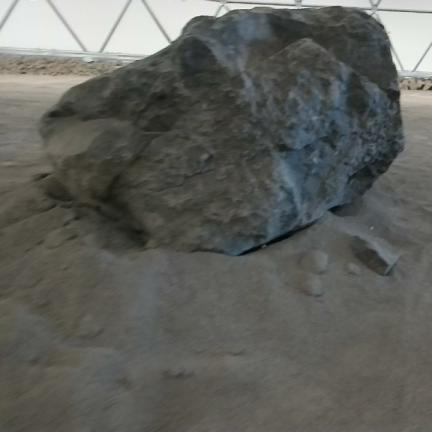Rock: (40, 7, 403, 254), (353, 237, 400, 275)
